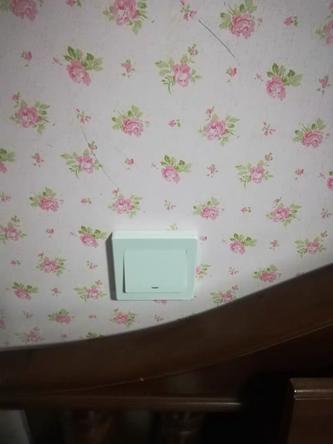switch: (115, 242, 196, 298)
